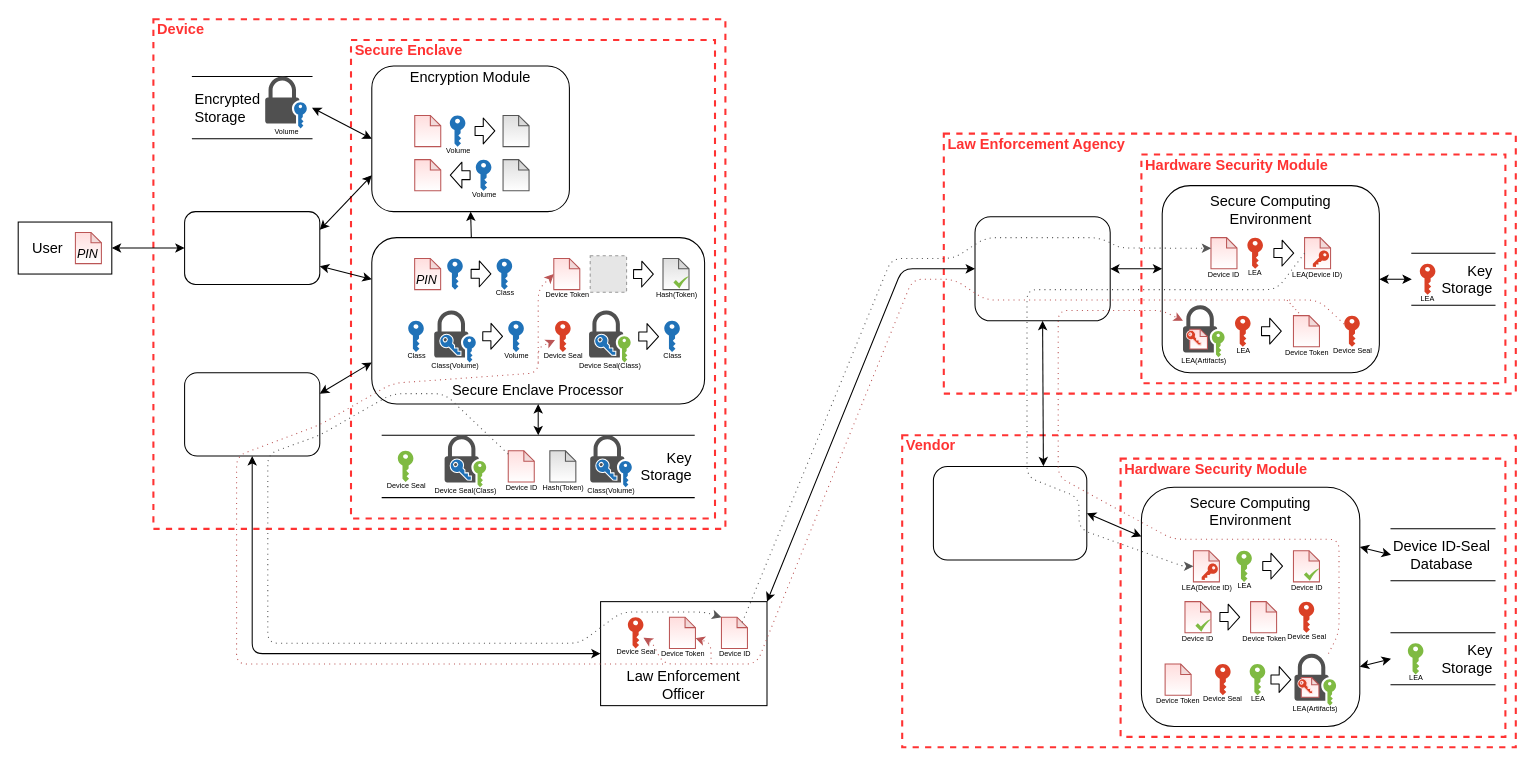
This 1535x765 diagram has some shape labels left out. Grey dashed boxes stand in for pictures. Each missing label, with the centre of its shape:
Access Compliance Department: pixel 1009 512
Digital Forensics Department: pixel 1042 268
Operating System: pixel 252 247
UID: pixel 454 273
Unexposed Hardware Interface: pixel 252 414
